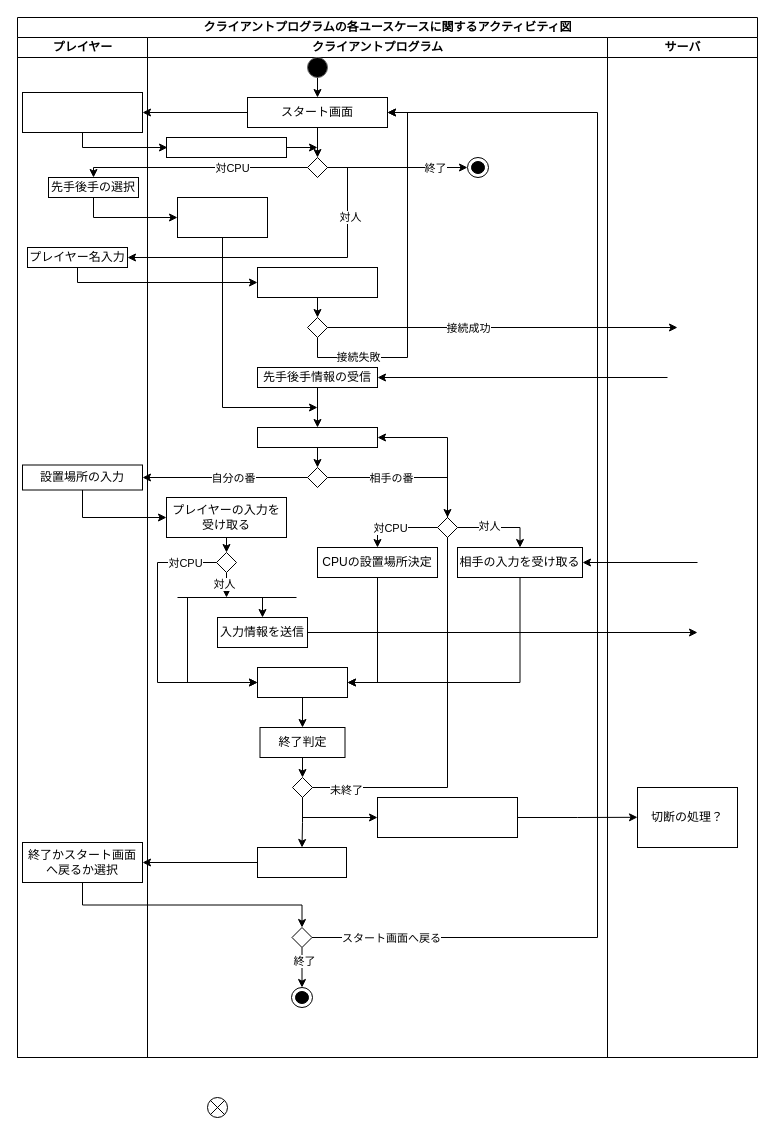
Some shapes in this 775 by 1135 pixel diagram are drawn without their labels. Here are the shapes that lost their labels. From the top down, the centre of each, then its label:
pixel 82 112: プレイ方法の選択or終了
pixel 226 147: 選択を受け取る
pixel 222 217: CPUプログラムを呼び出す
pixel 317 282: サーバに接続
pixel 317 437: 盤面の表示
pixel 302 682: 盤面の変更
pixel 447 817: 終了したことを知らせる
pixel 301 862: 勝敗判定
